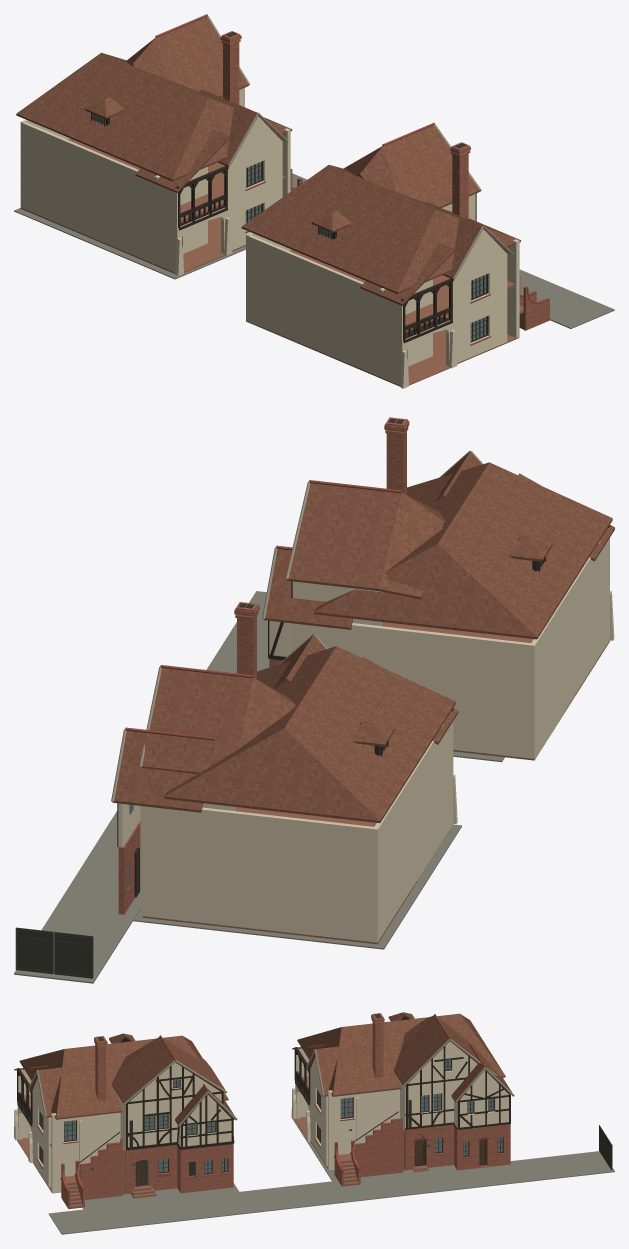
The model's file is lod-source.glb.
3 renders of one model, top to bottom at view 1: azimuth 30°, elevation 25°; view 2: azimuth 150°, elevation 25°; view 3: azimuth 270°, elevation 25°, orthographic. The views are drawn at different scales.
Parts seen in each view (by area): view 1: 五原路289弄花园住宅; view 2: 五原路289弄花园住宅; view 3: 五原路289弄花园住宅.
Part boxes in pixels (bbox=[...]): 五原路289弄花园住宅: bbox=[14, 14, 614, 388]; 五原路289弄花园住宅: bbox=[14, 417, 614, 983]; 五原路289弄花园住宅: bbox=[14, 1012, 614, 1234].
Size of the model in its own units: 24.42 by 12 by 45.06.
Materials: 16 (3 with a texture image).
